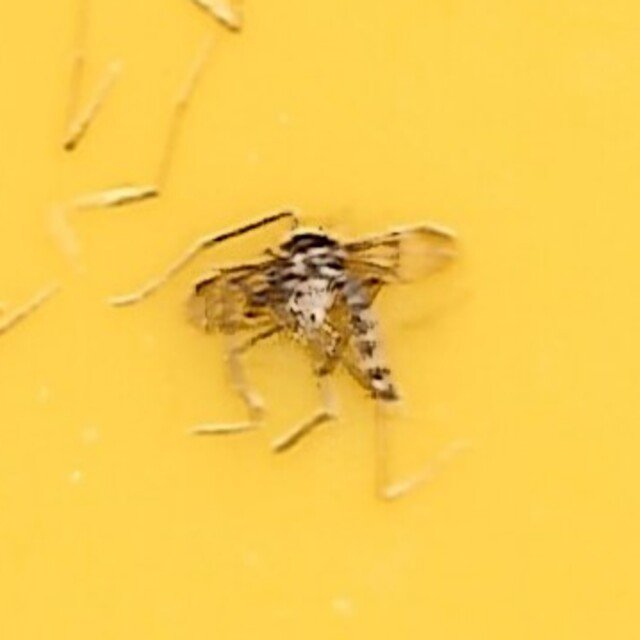Nematocera: (178, 213, 462, 427)
